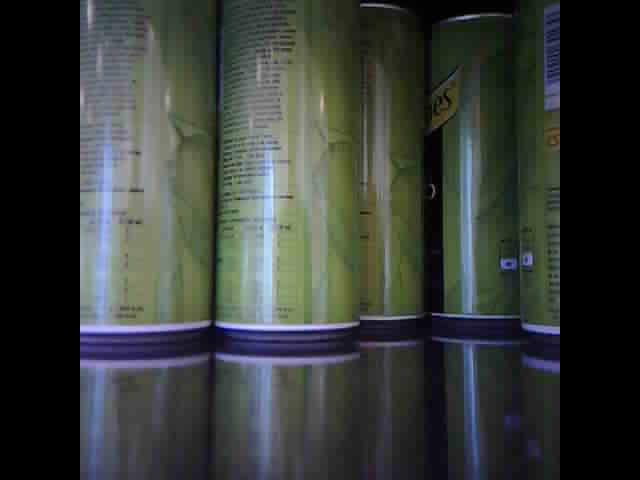schweppes: (217, 1, 361, 343), (81, 1, 217, 347), (428, 4, 515, 329), (360, 1, 422, 334), (517, 1, 560, 341)
